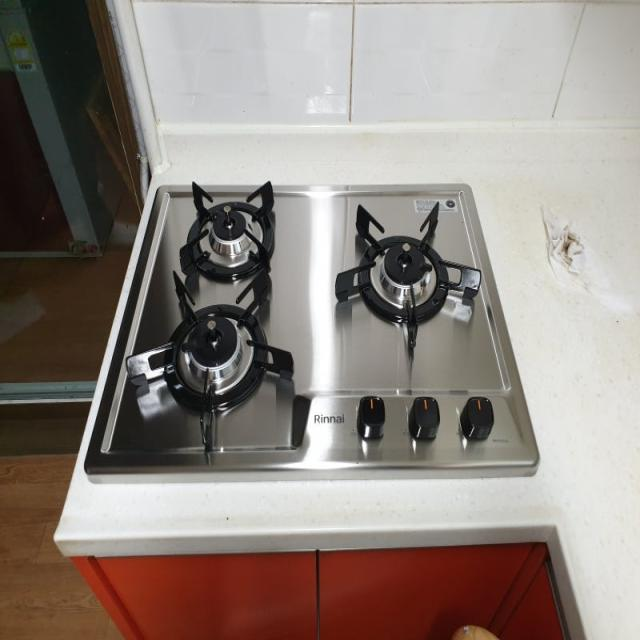knob_ON: (135, 174, 504, 454)
